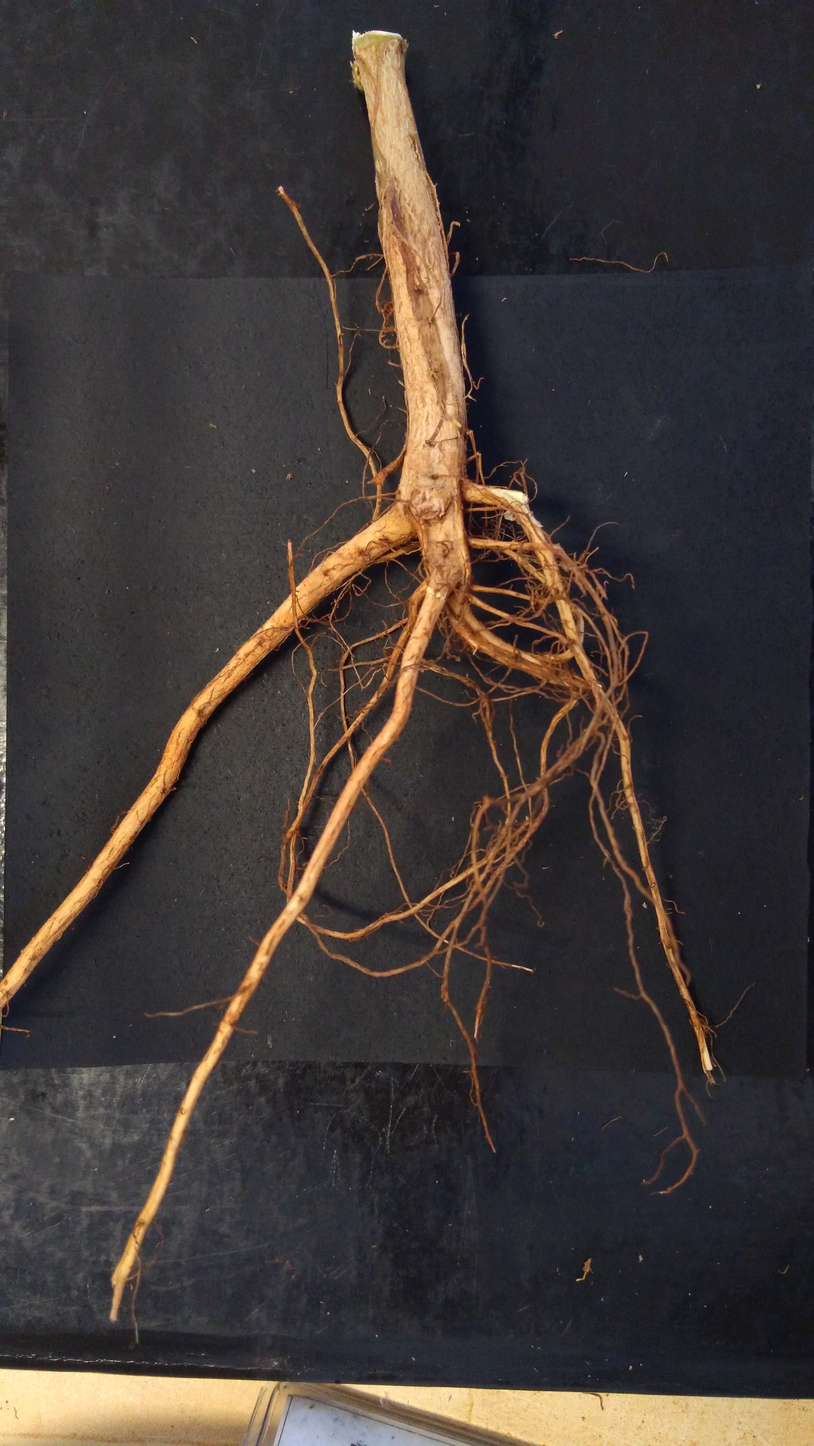nodule: (409, 484, 451, 520), (559, 558, 582, 573), (352, 60, 363, 91), (503, 509, 517, 522), (384, 301, 394, 312), (455, 656, 461, 662), (516, 519, 521, 524), (420, 669, 424, 673)
